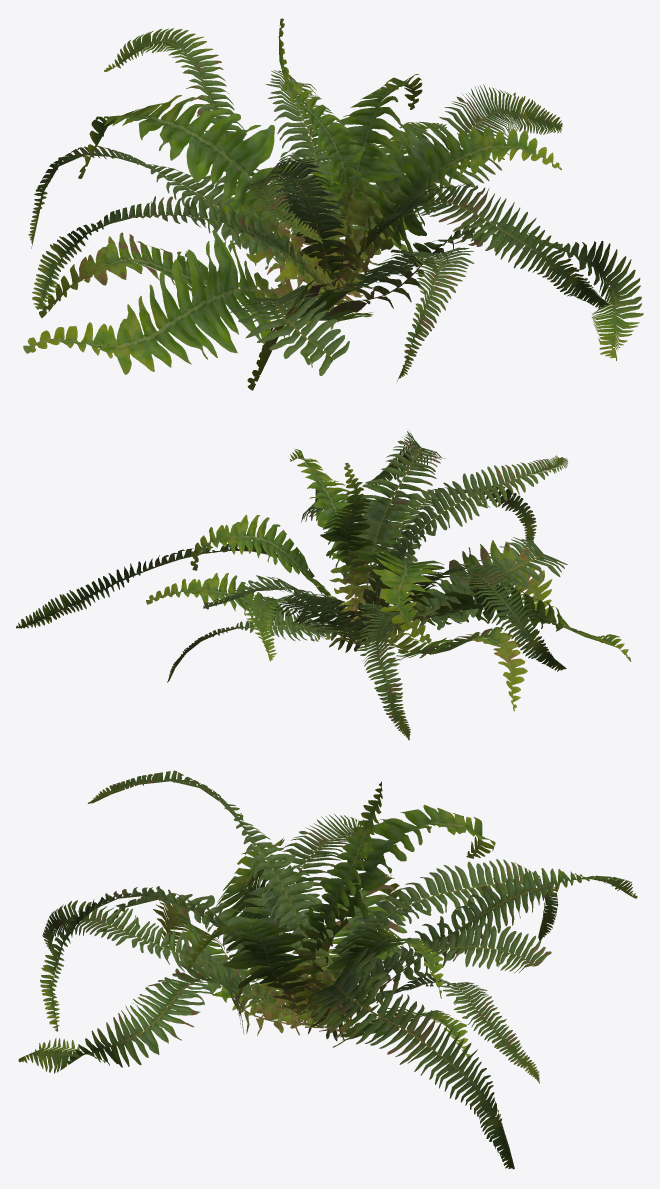
Rendered from fern_b.glb.
3 renders of one model, top to bottom at view 1: azimuth 30°, elevation 25°; view 2: azimuth 150°, elevation 25°; view 3: azimuth 270°, elevation 25°, orthographic. The views are drawn at different scales.
Parts seen in each view (by area): view 1: fern_b; view 2: fern_b; view 3: fern_b.
Part boxes in pixels (x1,y1,x2,y2): fern_b: (23,18,643,390); fern_b: (16,431,631,740); fern_b: (18,770,637,1169).
Bounding box in the file's own units: 4.51 × 1.8 × 3.95.
Materials: 1 (1 with a texture image).
